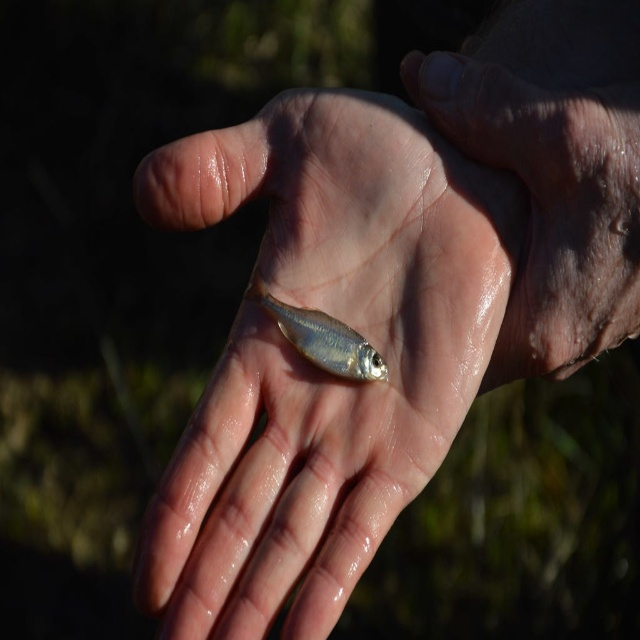Fish: (266, 286, 399, 397)
